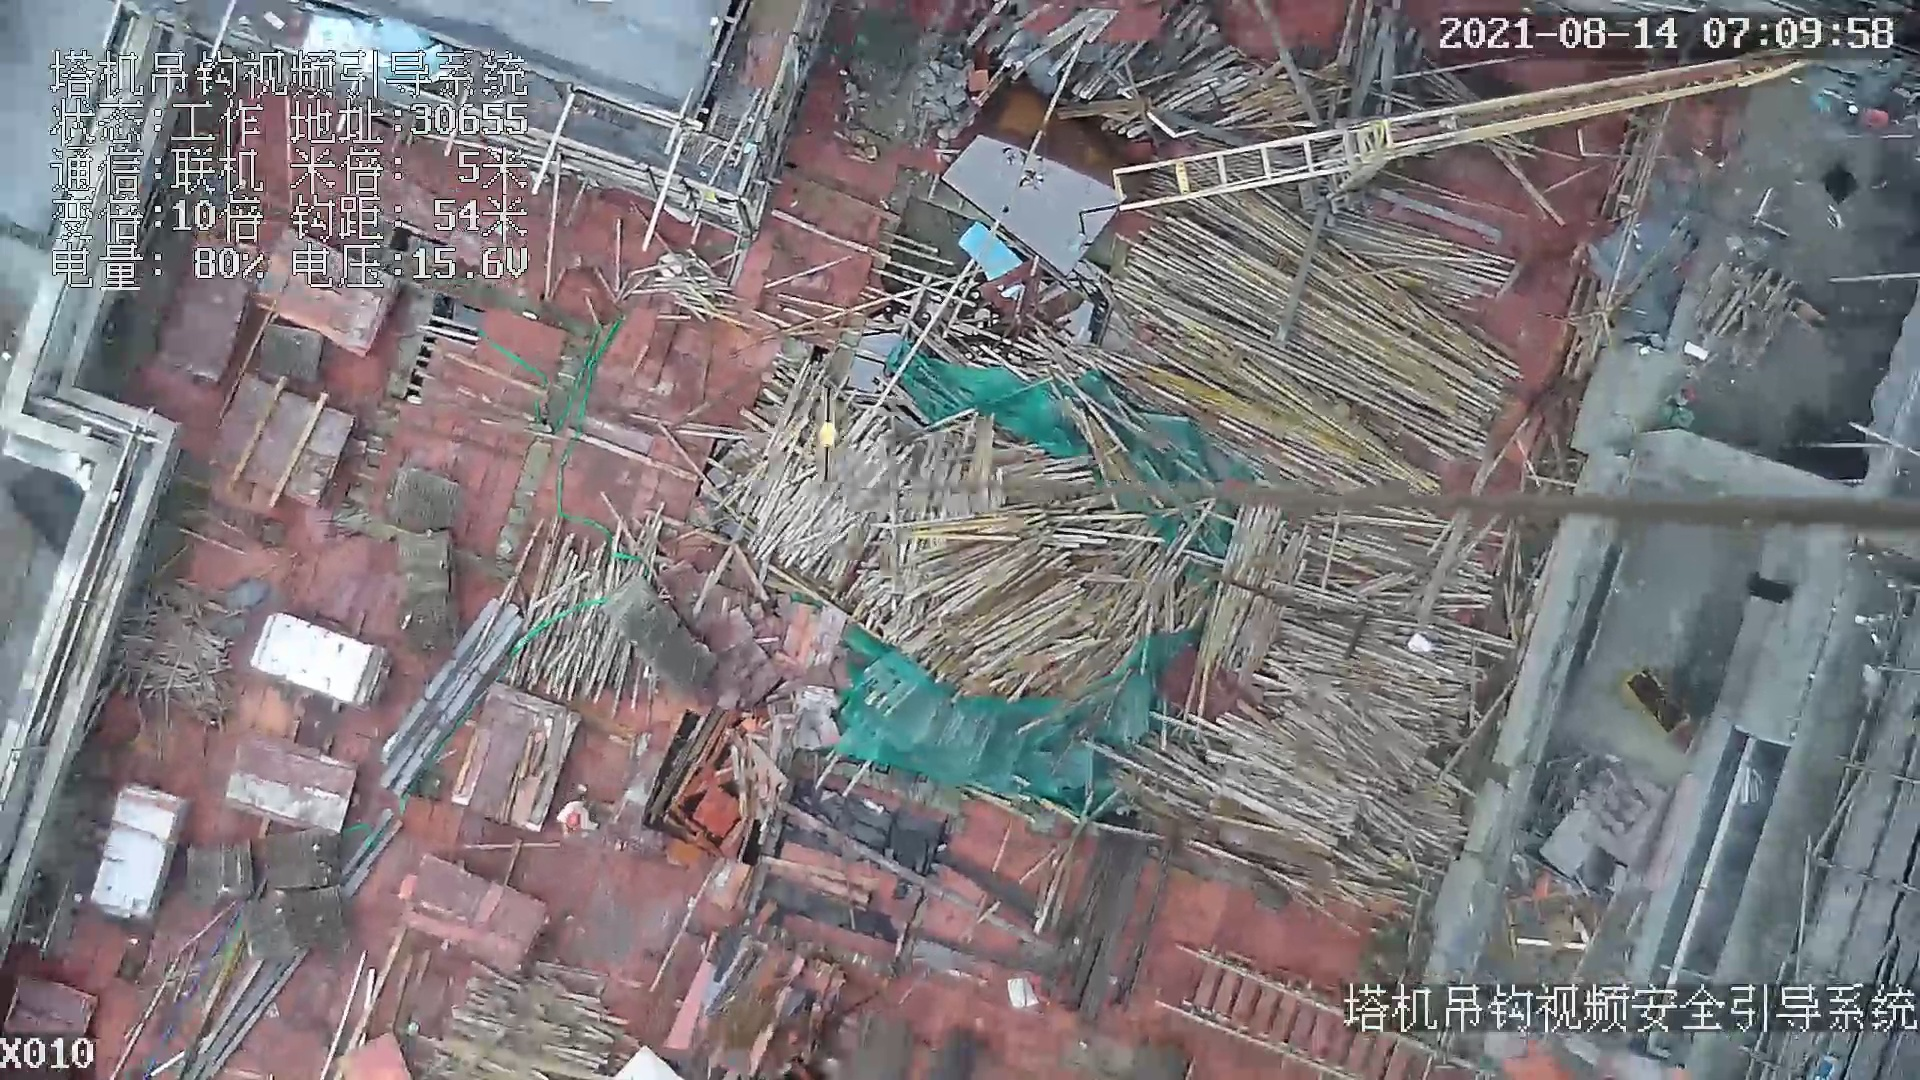helmet: (566, 811, 581, 830)
hook: (805, 383, 842, 486)
person: (549, 799, 600, 837)
